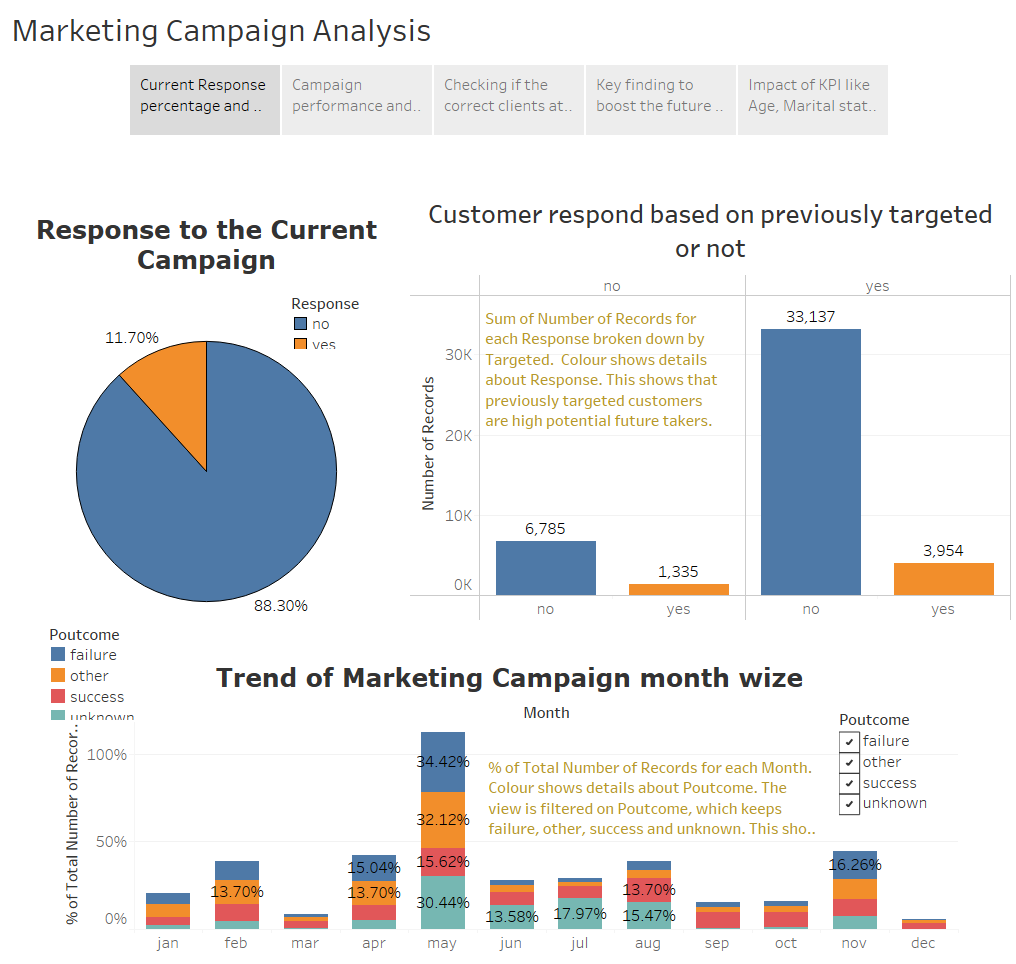

The dashboard page shown, as its layout file describes it:
{"tool":"tableau","page":{"name":"Dashboard 1","canvas":[1000,800],"ordinal":0},"visuals":[{"type":"worksheet","title":"Customer respond based on previously targeted or not","mark":"Automatic","rows":["Number of Records"],"cols":["targeted","response"],"box":[402,39,601,431]},{"type":"worksheet","title":"Response turnout to the Campaign","mark":"Pie","box":[9,57,410,459]},{"type":"legend","title":"Response turnout to the Campaign","param":"[federated.16b4l9v19oirxa11chxgu1q5xi05].[none:response:nk]","box":[282,140,140,58]},{"type":"text","box":[474,141,248,157]},{"type":"legend","title":"Trend of Marketing Campaign month wize","param":"[federated.16b4l9v19oirxa11chxgu1q5xi05].[none:poutcome:nk]","box":[40,471,140,98]},{"type":"worksheet","title":"Trend of Marketing Campaign month wize","mark":"Automatic","cols":["month"],"box":[53,505,897,298]},{"type":"filter","title":"Trend of Marketing Campaign month wize","param":"[federated.16b4l9v19oirxa11chxgu1q5xi05].[none:poutcome:nk]","box":[831,557,168,127]},{"type":"text","box":[477,601,341,93]}]}

Visuals, with their boxes on the page's 1000x800 design canvas (x1, y1, x2, y2). These are canvas units, not pixel positions in the 1016x964 screenshot, which may show the page scaled, cropped or inside an application window:
"Customer respond based on previously targeted or not" worksheet: (x1=402, y1=39, x2=1003, y2=470)
"Response turnout to the Campaign" worksheet (Pie marks): (x1=9, y1=57, x2=419, y2=516)
"Response turnout to the Campaign" legend: (x1=282, y1=140, x2=422, y2=198)
text: (x1=474, y1=141, x2=722, y2=298)
"Trend of Marketing Campaign month wize" legend: (x1=40, y1=471, x2=180, y2=569)
"Trend of Marketing Campaign month wize" worksheet: (x1=53, y1=505, x2=950, y2=803)
"Trend of Marketing Campaign month wize" filter: (x1=831, y1=557, x2=999, y2=684)
text: (x1=477, y1=601, x2=818, y2=694)
